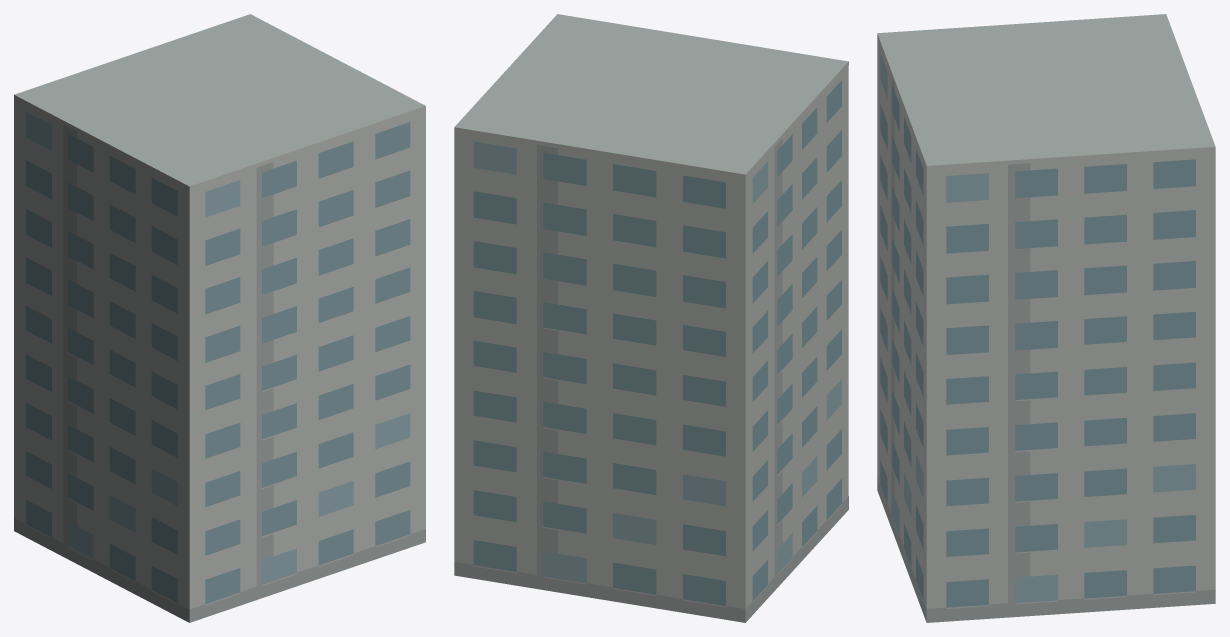
The model's file is survey-upis-32631072.glb.
3 renders of one model, left to right at view 1: azimuth 30°, elevation 25°; view 2: azimuth 150°, elevation 25°; view 3: azimuth 270°, elevation 25°, orthographic. The views are drawn at different scales.
Visible parts, largest first — view 1: survey-upis-32631072.tmp; view 2: survey-upis-32631072.tmp; view 3: survey-upis-32631072.tmp.
Part boxes in pixels (<box>): survey-upis-32631072.tmp: <box>14,14,425,622</box>; survey-upis-32631072.tmp: <box>454,14,848,622</box>; survey-upis-32631072.tmp: <box>877,14,1215,622</box>.
Size of the model in its own units: 18.98 by 26.6 by 17.86.
